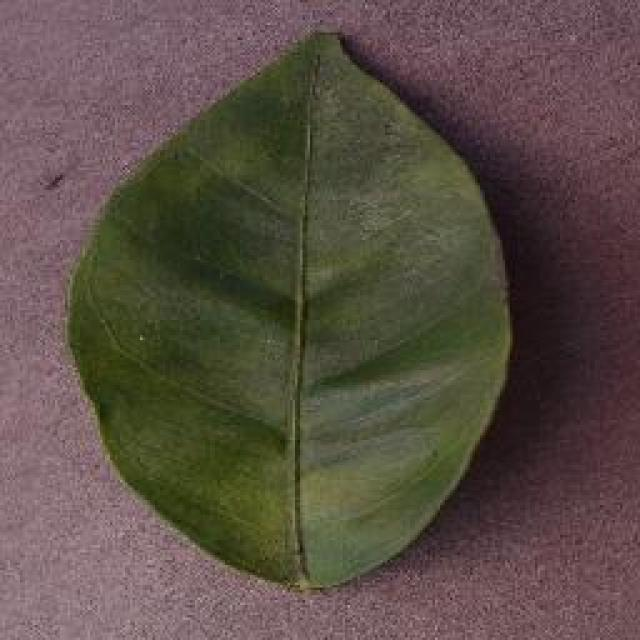Orange_Haunglongbing_Citrus_greening: (111, 98, 461, 532)
